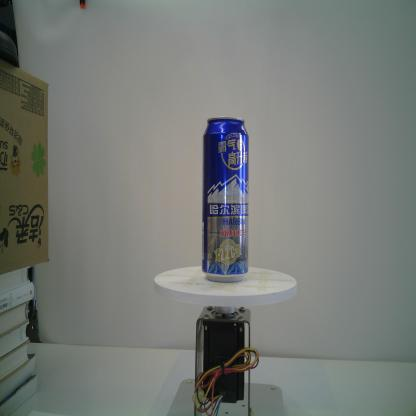Alcohol: (199, 115, 250, 286)
